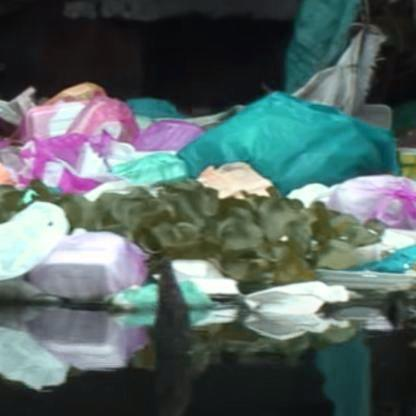Trash: (181, 87, 398, 191), (35, 232, 143, 306), (294, 169, 416, 234), (0, 199, 69, 276), (18, 133, 100, 194), (28, 90, 128, 136), (244, 276, 346, 320), (99, 148, 177, 204), (107, 277, 217, 315), (170, 258, 248, 292), (200, 158, 258, 196), (361, 242, 410, 284)
